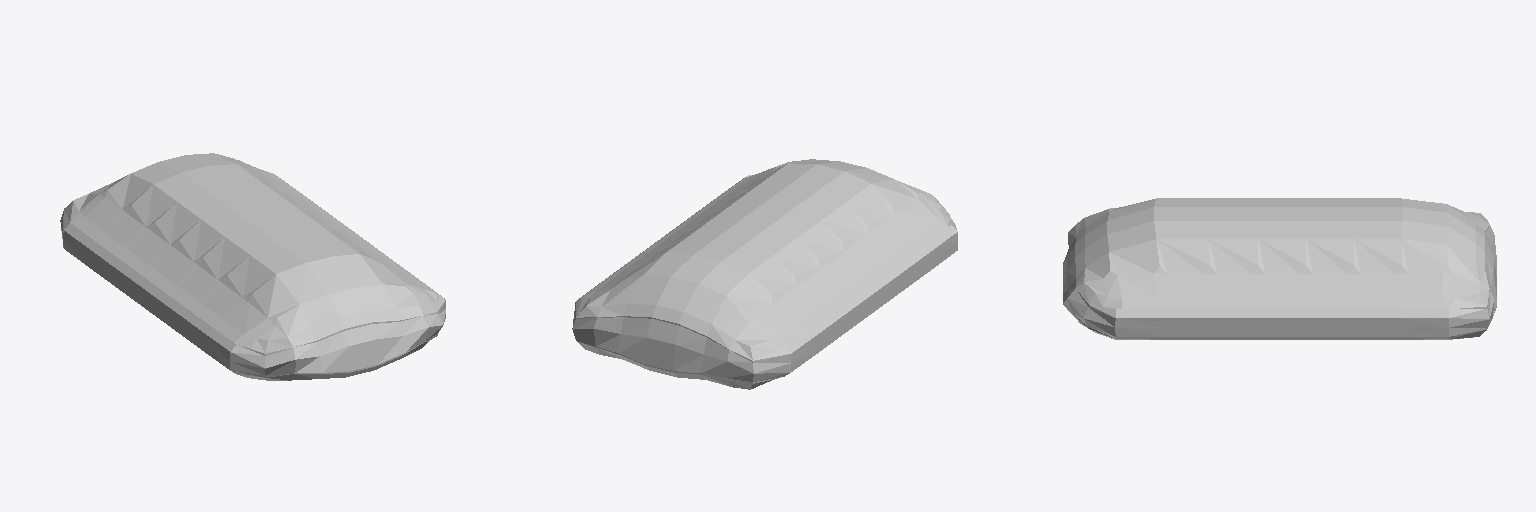
Rendered from Fertiliser.obj.
The picture shows the model from 3 angles: view 1: azimuth 30°, elevation 25°; view 2: azimuth 150°, elevation 25°; view 3: azimuth 270°, elevation 25°; orthographic projection.
Parts seen in each view (by area): view 1: Fertiliser; view 2: Fertiliser; view 3: Fertiliser.
Boxes of the visible parts, <box> form: Fertiliser: <box>60,153,445,380</box>; Fertiliser: <box>572,159,957,389</box>; Fertiliser: <box>1063,198,1496,339</box>.
Size of the model in its own units: 0.5802 by 0.2168 by 1.01.